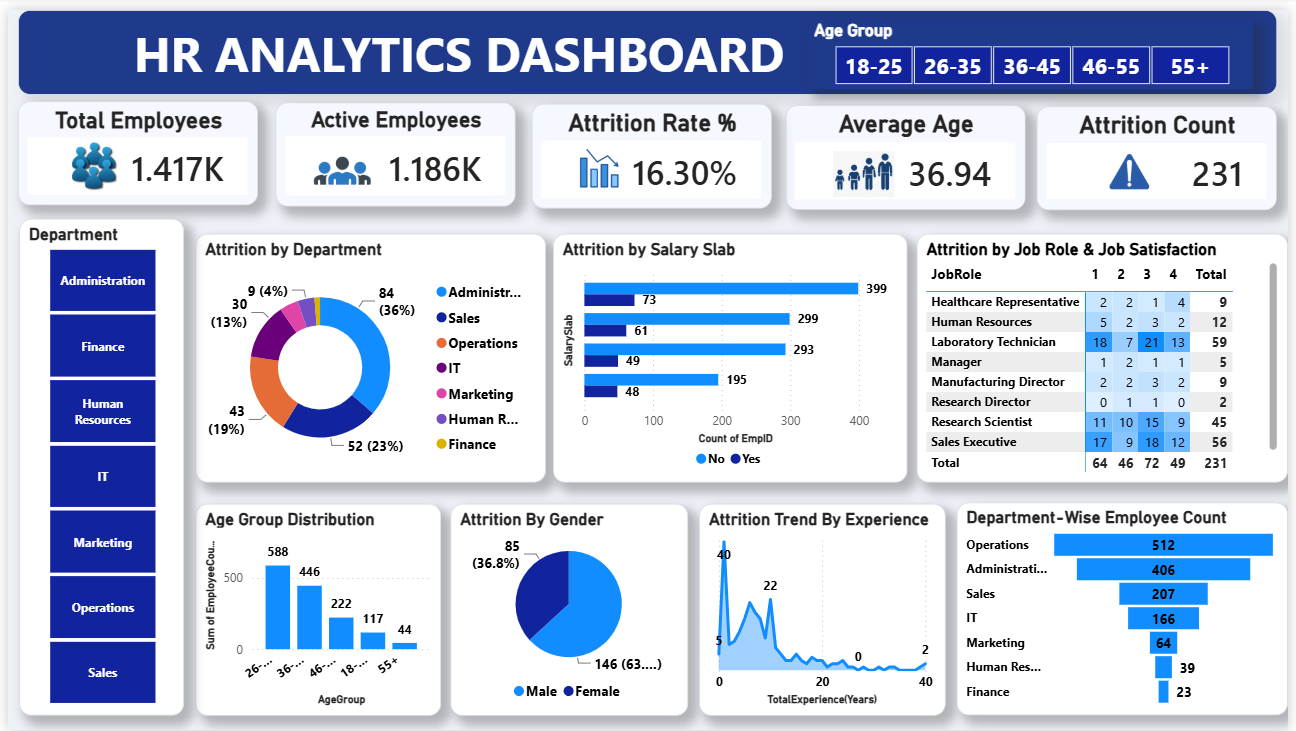

Layout of this report page (visuals, bound fields, positions):
{"tool":"powerbi","page":{"name":"Page 1","canvas":[1280,720],"ordinal":0},"visuals":[{"type":"textbox","box":[10,0,1259,85],"z":0},{"type":"cardVisual","title":"Total Employees","fields":{"Data":["CountNonNull(HR Analytics Project.EmpID)"]},"box":[10.5,90.7,240,104],"z":1000},{"type":"cardVisual","title":"Active Employees","fields":{"Data":["CountNonNull(HR Analytics Project.EmployeeNumber)"]},"box":[267.8,92.9,240.1,103.8],"z":2000},{"type":"cardVisual","title":"Average Age","fields":{"Data":["Avg(HR Analytics Project.Age)"]},"box":[776.9,95.3,240.1,105],"z":3000},{"type":"cardVisual","title":"Attrition Count","fields":{"Data":["Sum(HR Analytics Project.AttritionCount)"]},"box":[1029.1,96.5,240,104],"z":4000},{"type":"cardVisual","title":"Attrition Rate %","fields":{"Data":["HR Analytics Project.Attrition Rate %"]},"box":[523.6,94.1,240.1,105],"z":6000},{"type":"image","box":[50.7,130.3,68.8,50.7],"z":7000},{"type":"image","box":[299.2,126.7,71.2,68.8],"z":8000},{"type":"image","box":[1095.4,131.5,53.1,60.3],"z":9000},{"type":"image","box":[571.9,135.1,39.8,45.8],"z":10000},{"type":"image","box":[825.2,131.5,61.5,65.1],"z":11000},{"type":"donutChart","title":"Attrition by Department","fields":{"Category":["HR Analytics Project.Department"],"Y":["Sum(HR Analytics Project.AttritionCount)"]},"box":[187.2,223.3,350,248.8],"z":13000},{"type":"clusteredBarChart","title":"Attrition by Salary Slab","fields":{"Category":["HR Analytics Project.SalarySlab"],"Y":["CountNonNull(HR Analytics Project.EmpID)"],"Series":["HR Analytics Project.Attrition"]},"box":[545.4,223.3,354.7,248.8],"z":14000},{"type":"pivotTable","title":"Attrition by Job Role & Job Satisfaction","fields":{"Rows":["HR Analytics Project.JobRole"],"Values":["Sum(HR Analytics Project.AttritionCount)"],"Columns":["HR Analytics Project.JobSatisfaction"]},"box":[909.3,223.3,370.9,248.8],"z":15000},{"type":"columnChart","title":"Age Group Distribution","fields":{"Category":["HR Analytics Project.AgeGroup"],"Y":["Sum(HR Analytics Project.EmployeeCount)"]},"box":[187.2,494.2,245.3,211.6],"z":16000},{"type":"pieChart","title":"Attrition By Gender","fields":{"Category":["HR Analytics Project.Gender"],"Y":["Sum(HR Analytics Project.AttritionCount)"]},"box":[443,494.2,237.2,211.6],"z":17000},{"type":"areaChart","title":"Attrition Trend By Experience","fields":{"Category":["HR Analytics Project.TotalExperience(Years)"],"Y2":["Sum(HR Analytics Project.AttritionCount)"]},"box":[691.9,494.2,246.5,211.6],"z":18000},{"type":"funnel","title":"Department-Wise Employee Count","fields":{"Category":["HR Analytics Project.Department"],"Y":["CountNonNull(HR Analytics Project.EmpID)"]},"box":[948.8,492.6,331.5,213],"z":19000},{"type":"slicer","title":"Department","fields":{"Values":["HR Analytics Project.Department"]},"box":[11.6,209.3,165.1,496.5],"z":20000},{"type":"slicer","title":"Age Group","fields":{"Values":["HR Analytics Project.AgeGroup"]},"box":[801.1,9.7,444,68.8],"z":21000}]}

Visuals, with their boxes in screenshot pixels (x1, y1, x2, y2), scaled from the page's 1280x720 canvas onto the 1296x731 screenshot:
textbox: 10 0 1285 86
"Total Employees" cardVisual: 11 92 254 198
"Active Employees" cardVisual: 271 94 514 200
"Average Age" cardVisual: 787 97 1030 203
"Attrition Count" cardVisual: 1042 98 1285 204
"Attrition Rate %" cardVisual: 530 96 773 202
image: 51 132 121 184
image: 303 129 375 198
image: 1109 134 1163 195
image: 579 137 619 184
image: 836 134 898 200
"Attrition by Department" donutChart: 190 227 544 479
"Attrition by Salary Slab" clusteredBarChart: 552 227 911 479
"Attrition by Job Role & Job Satisfaction" pivotTable: 921 227 1295 479
"Age Group Distribution" columnChart: 190 502 438 717
"Attrition By Gender" pieChart: 449 502 689 717
"Attrition Trend By Experience" areaChart: 701 502 950 717
"Department-Wise Employee Count" funnel: 961 500 1295 716
"Department" slicer: 12 212 179 717
"Age Group" slicer: 811 10 1261 80
